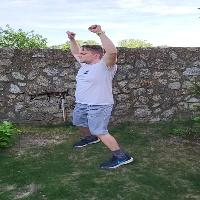jumping_jacks: (56, 22, 141, 173)
